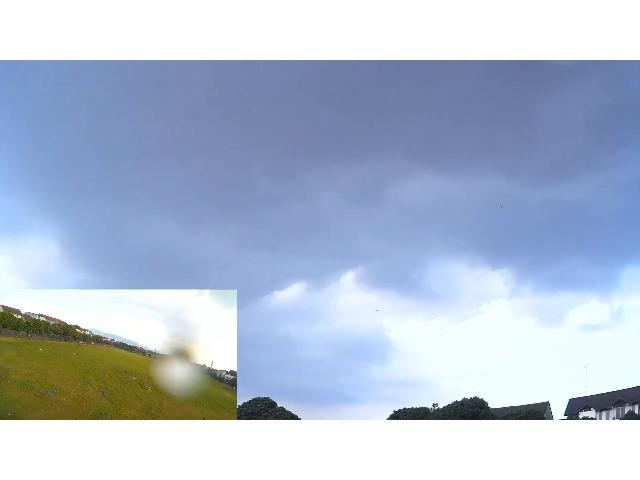Anti-Drone: (370, 310, 382, 316)
